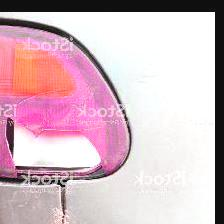tail_lamp: (0, 72, 112, 223)
